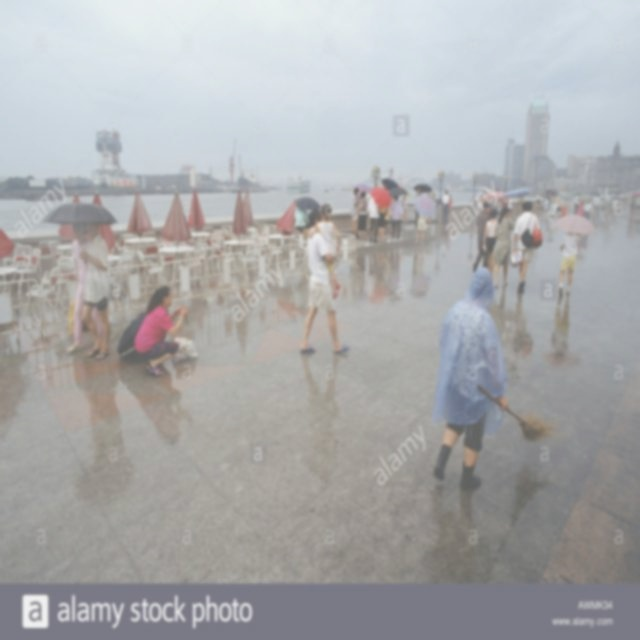pessoa: (68, 358, 207, 501), (430, 264, 509, 493), (298, 207, 351, 353), (294, 350, 352, 482), (487, 288, 578, 357), (133, 284, 190, 376), (68, 221, 104, 353), (79, 220, 112, 361), (352, 248, 432, 306), (506, 200, 544, 294), (306, 203, 342, 302), (492, 206, 516, 289), (558, 231, 581, 298), (473, 200, 491, 274), (482, 208, 498, 278), (605, 188, 640, 220), (543, 188, 568, 219), (388, 192, 403, 240), (366, 194, 380, 243), (356, 190, 368, 240), (350, 187, 360, 240), (412, 212, 427, 246), (384, 186, 394, 236), (294, 205, 311, 234), (377, 206, 388, 243), (590, 192, 602, 222), (475, 194, 484, 234), (441, 189, 451, 224), (428, 189, 438, 224), (414, 186, 422, 228), (401, 192, 408, 222), (582, 201, 591, 221), (507, 196, 514, 221), (447, 194, 453, 223), (574, 191, 580, 220), (577, 200, 586, 218), (489, 197, 497, 209), (536, 192, 541, 208), (500, 198, 508, 208)
